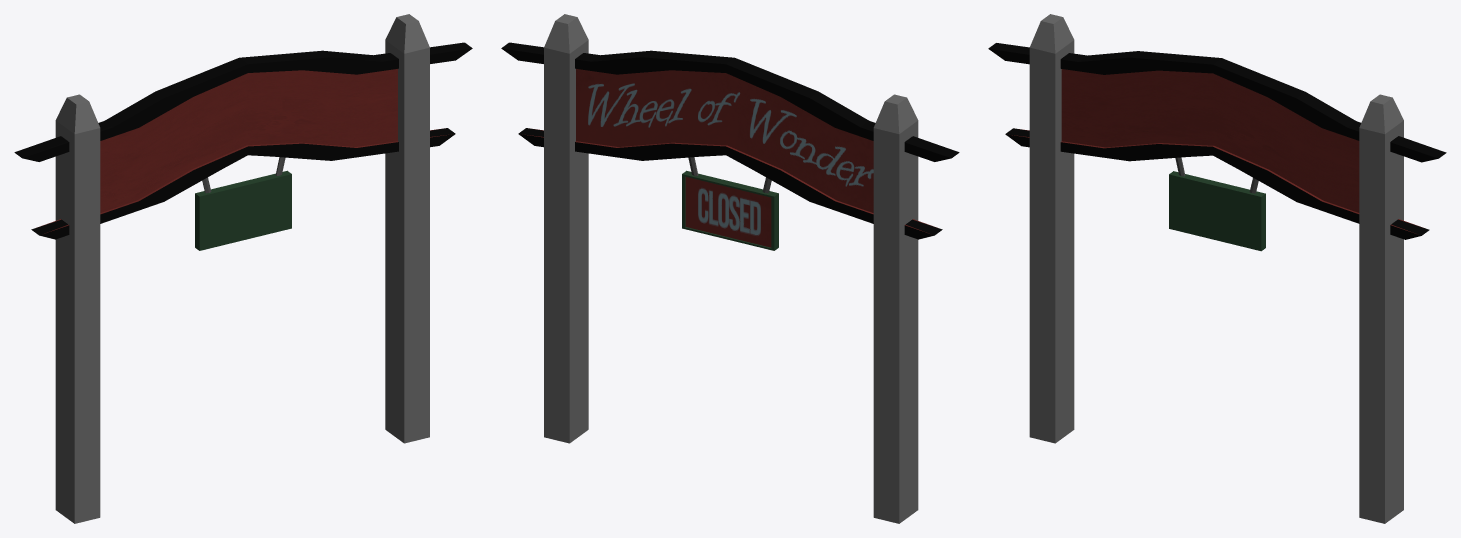
File: wheel of wonder sign.fbx
3 views of the same model, side by side, from view 1: azimuth 30°, elevation 25°; view 2: azimuth 150°, elevation 25°; view 3: azimuth 330°, elevation 25° (orthographic).
Parts seen in each view (by area): view 1: Cube.002, Cube, Cube.001, Cube.003; view 2: Cube.002, Cube, Cube.001, Cube.003; view 3: Cube.002, Cube.001, Cube, Cube.003.
Part boxes in pixels (box(x1,y1,x2,y2)): Cube.002: box(14, 42, 472, 239); Cube: box(55, 94, 100, 523); Cube.001: box(385, 14, 429, 443); Cube.003: box(195, 170, 291, 250); Cube.002: box(501, 42, 959, 239); Cube: box(873, 94, 918, 523); Cube.001: box(544, 14, 588, 443); Cube.003: box(682, 170, 778, 250); Cube.002: box(988, 43, 1446, 239); Cube.001: box(1359, 94, 1403, 523); Cube: box(1029, 14, 1074, 443); Cube.003: box(1169, 171, 1265, 251).
Size of the model in its own units: 1363 by 1198 by 99.88.
